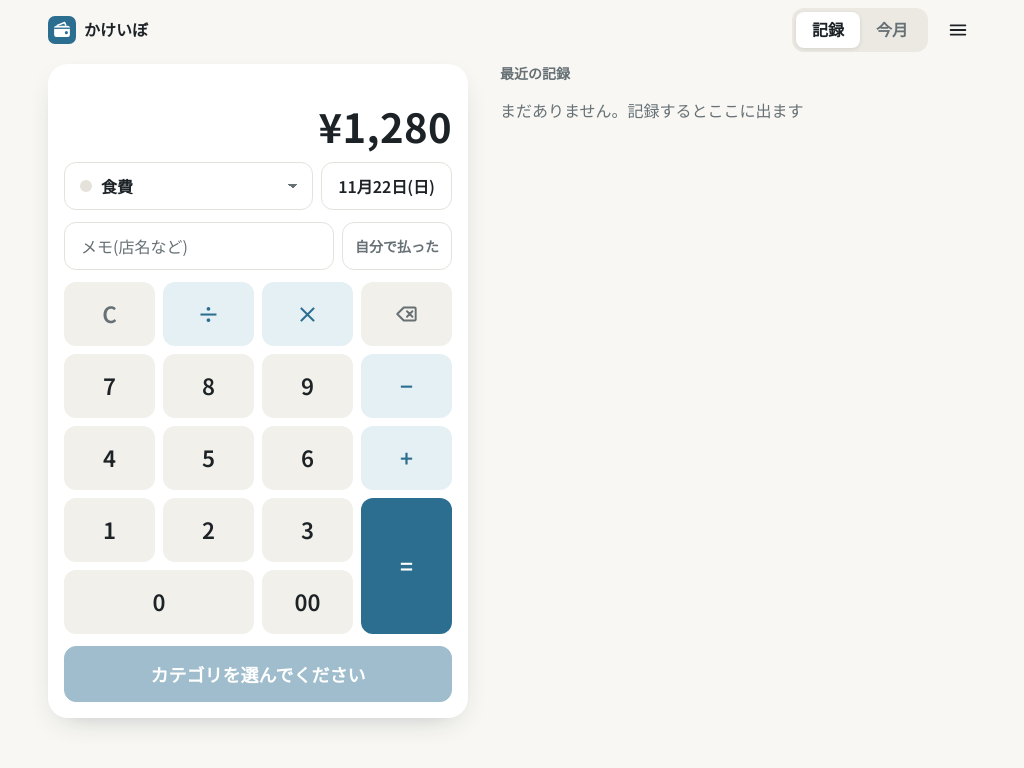
Test case: 記録する › 金額とカテゴリを入れて記録すると、今月の残りを知らせる
Expected: the text with class "full" reads "11月22日(日)", [338,174,435,198]
Expected: the button with class "submit" is disabled, [64,646,452,702]
Select "食費" in the dropdown. click: {"x": 189, "y": 186}
box: [64,162,313,210]
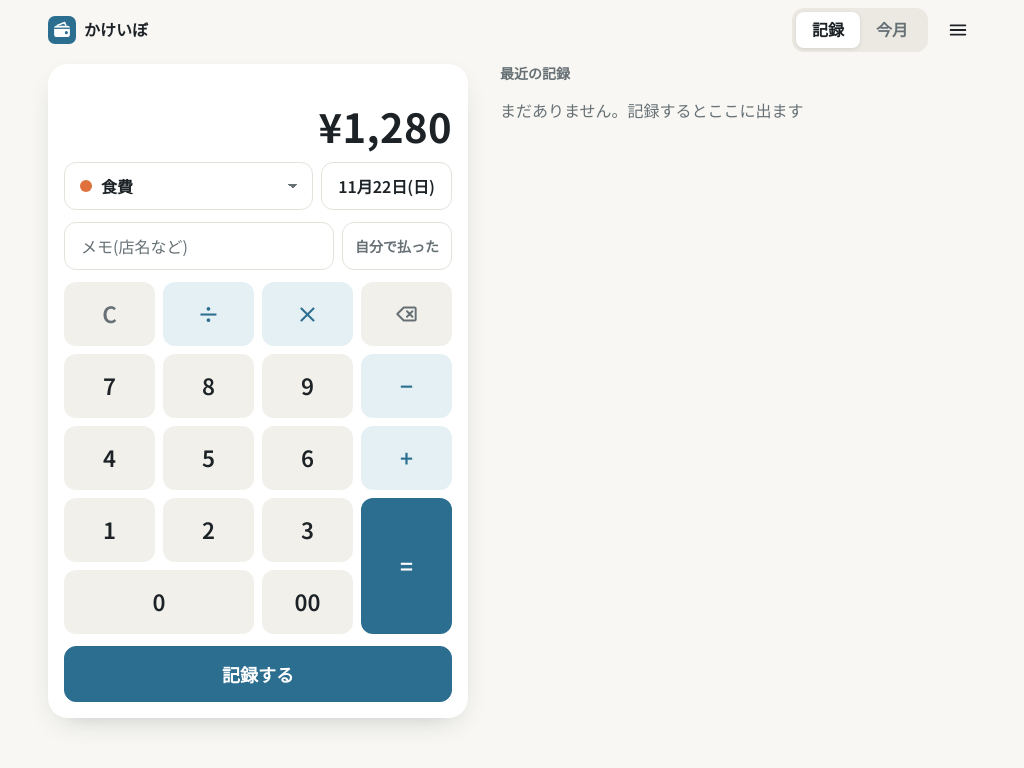
Expected: the text with class "amount" reads "¥1,280", [319,97,452,155]
Click the button with class "submit". click: {"x": 258, "y": 674}
box: [64,646,452,702]
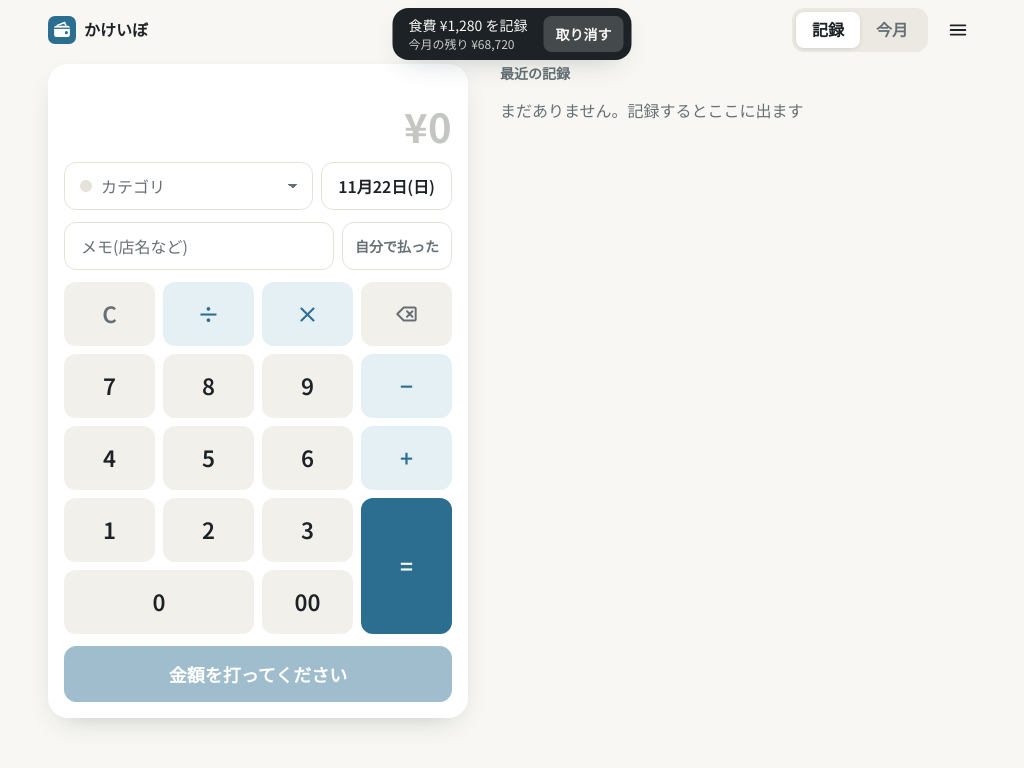
Result: the message with class "toast" shows "食費 ¥1,280 を記録" at [408,15,528,35]
Result: the message with class "toast" shows "今月の残り ¥68,720" at [408,35,514,52]
Result: the text with class "amount" reads "¥0" at [404,97,452,155]
